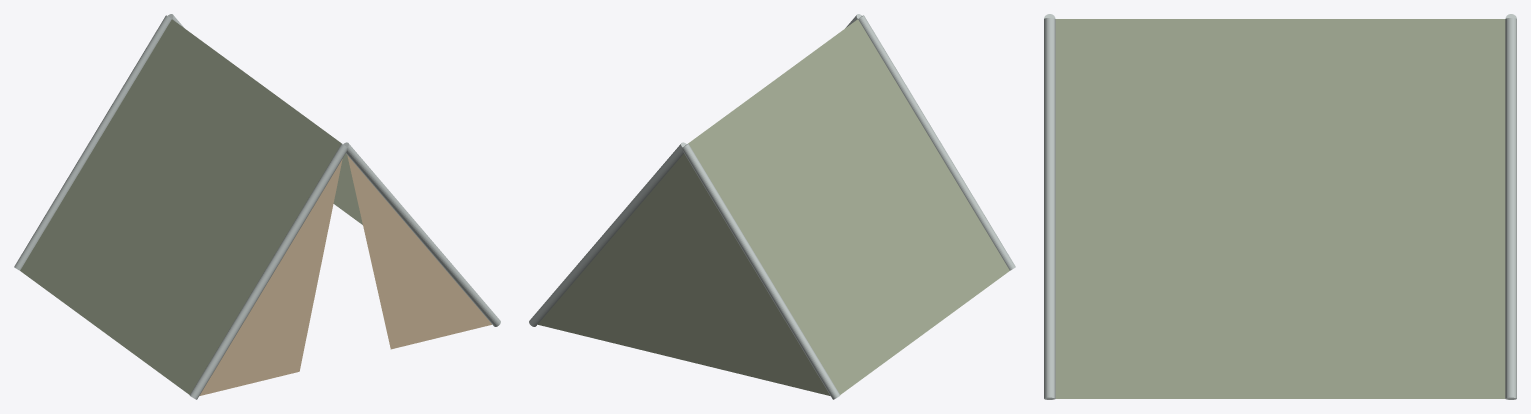
3 views of the same model, side by side, from view 1: azimuth 30°, elevation 25°; view 2: azimuth 150°, elevation 25°; view 3: azimuth 270°, elevation 25° (orthographic). The views are drawn at different scales.
Visible parts, largest first — view 1: tent canopy, door flaps, ridge support, ridge support.002, ridge support.001; view 2: tent canopy, ridge support.002, ridge support, ridge support.003; view 3: tent canopy, ridge support.001, ridge support.003.
Part boxes in pixels (x1,y1,x2,y2): tent canopy: (20,19,362,394); door flaps: (199,155,491,395); ridge support: (189,143,347,399); ridge support.002: (14,15,171,270); ridge support.001: (343,142,500,326); tent canopy: (538,19,1009,395); ridge support.002: (682,143,840,399); ridge support: (858,15,1015,270); ridge support.003: (529,142,686,326); tent canopy: (1055,19,1505,398); ridge support.001: (1044,18,1055,399); ridge support.003: (1505,18,1516,399).
Bounding box in the file's own units: 2.04 × 1.38 × 2.05.
